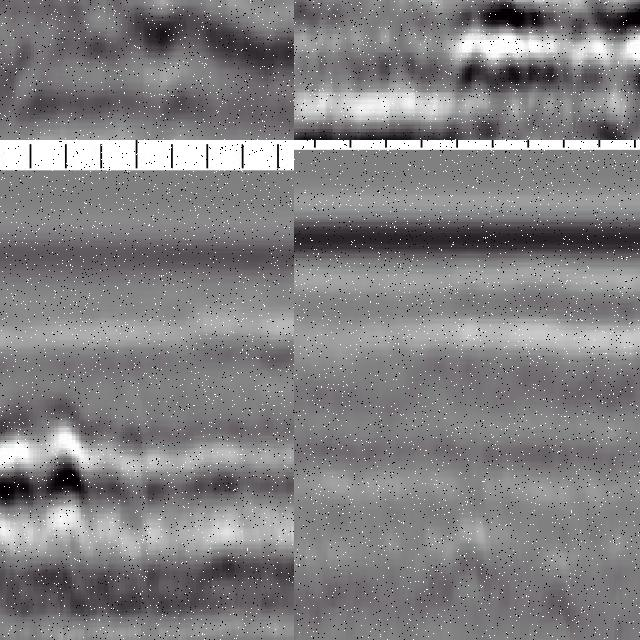loose: (15, 1, 227, 119), (1, 396, 141, 541), (449, 1, 640, 103)
